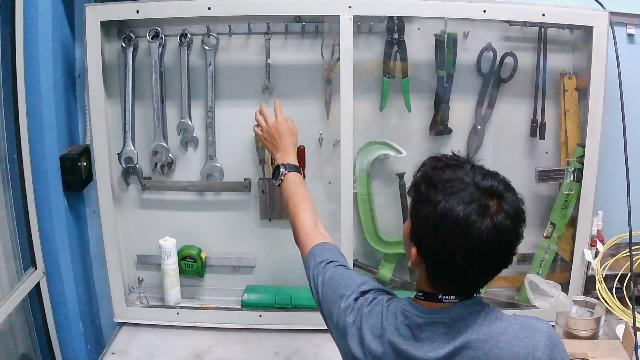kunci_pass_13: (253, 21, 282, 126)
